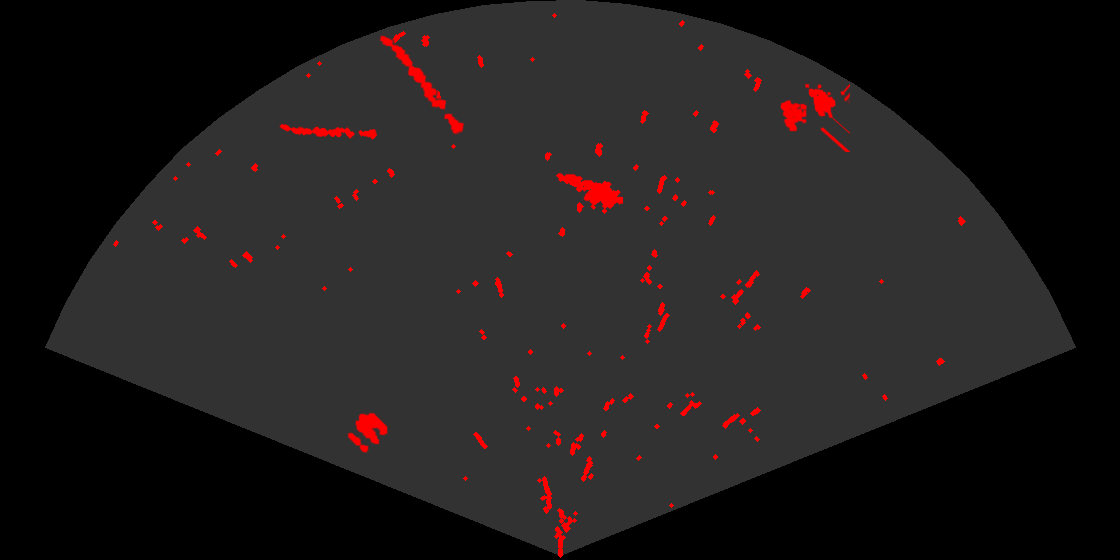ball: (346, 411, 389, 455)
cage: (779, 82, 850, 152)
chain: (378, 34, 466, 136), (278, 122, 378, 141)
frogman: (555, 172, 623, 211)
